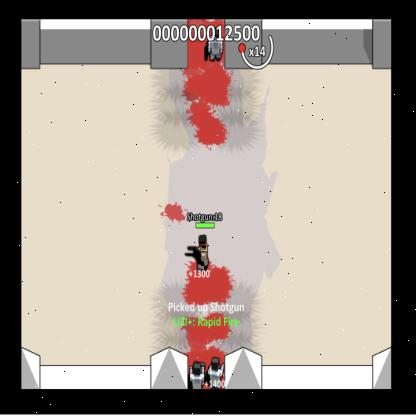agent: (196, 232, 209, 272)
jombie: (206, 356, 225, 387), (189, 360, 204, 390), (207, 40, 224, 62)
